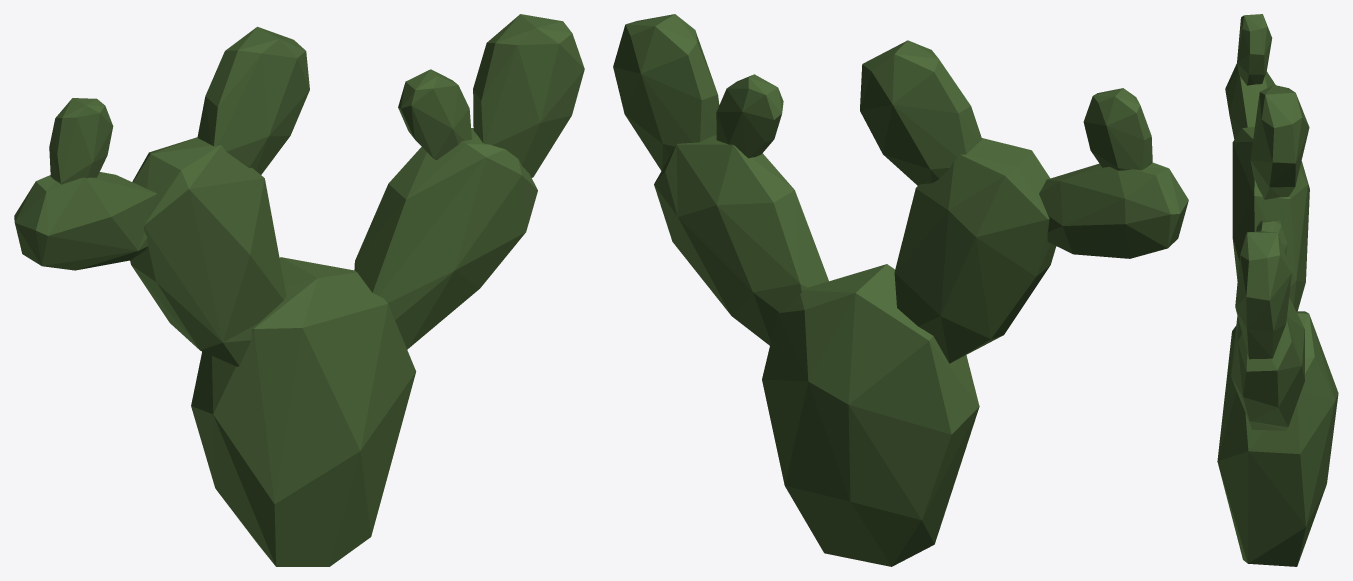
Rendered from SM_Envr_Nature_Plant_Desert_05.fbx.
The picture shows the model from 3 angles, left to right: view 1: azimuth 30°, elevation 25°; view 2: azimuth 150°, elevation 25°; view 3: azimuth 270°, elevation 25°; orthographic projection. The views are drawn at different scales.
Parts seen in each view (by area): view 1: SM_Envr_Nature_Plant_Desert_05; view 2: SM_Envr_Nature_Plant_Desert_05; view 3: SM_Envr_Nature_Plant_Desert_05.
Part boxes in pixels (x1,y1,x2,y2): SM_Envr_Nature_Plant_Desert_05: (14,14,584,566); SM_Envr_Nature_Plant_Desert_05: (613,14,1188,566); SM_Envr_Nature_Plant_Desert_05: (1217,14,1338,566).
Size of the model in its own units: 227 by 203 by 49.44.
